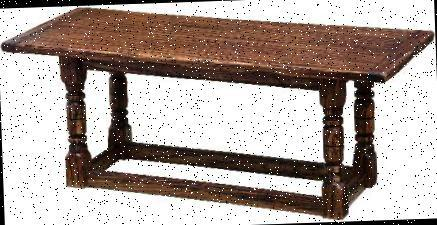Mesa: (4, 0, 435, 224)
